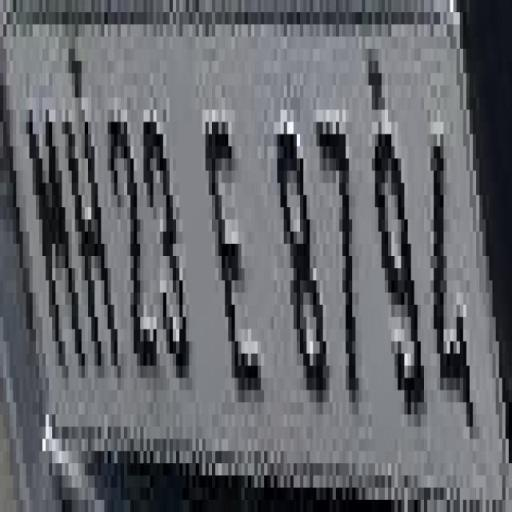number plate: (22, 0, 512, 487)
